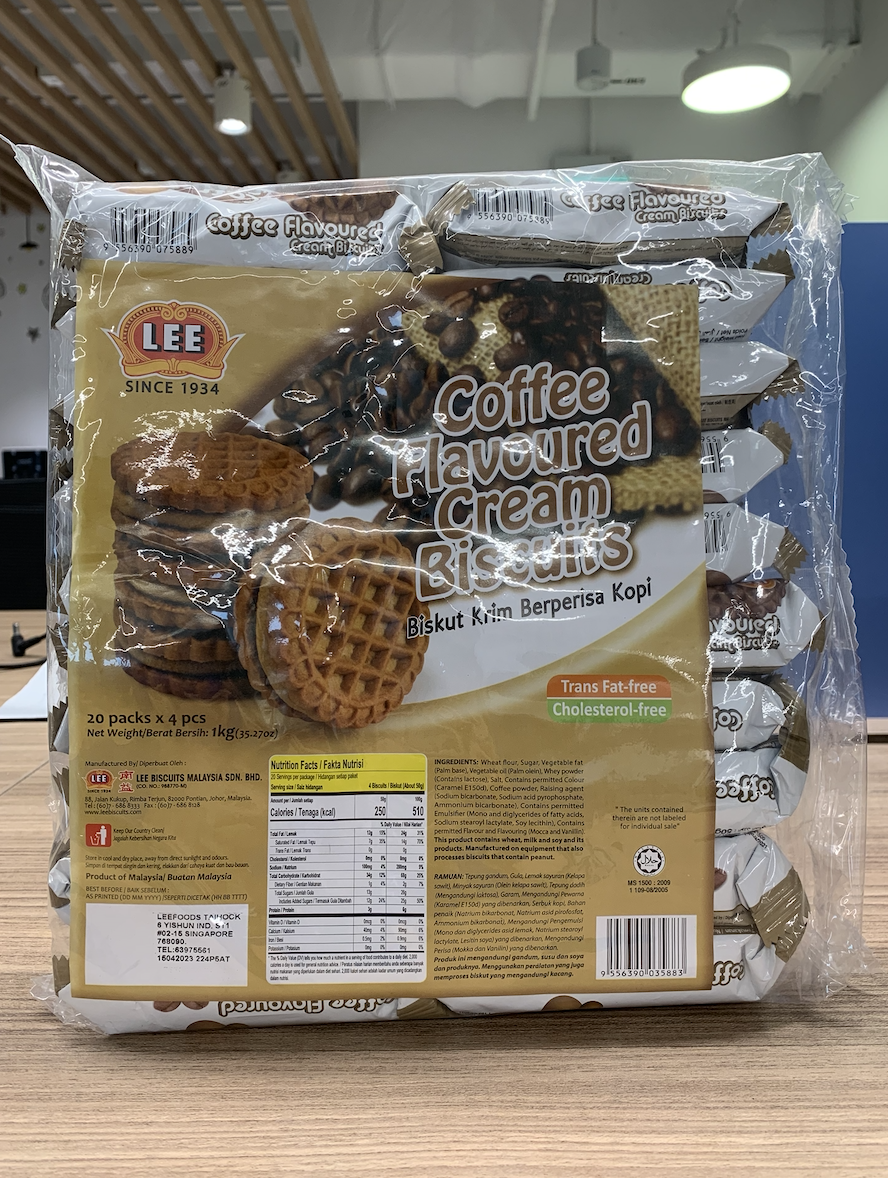cookies_1500g: (82, 193, 767, 1009)
